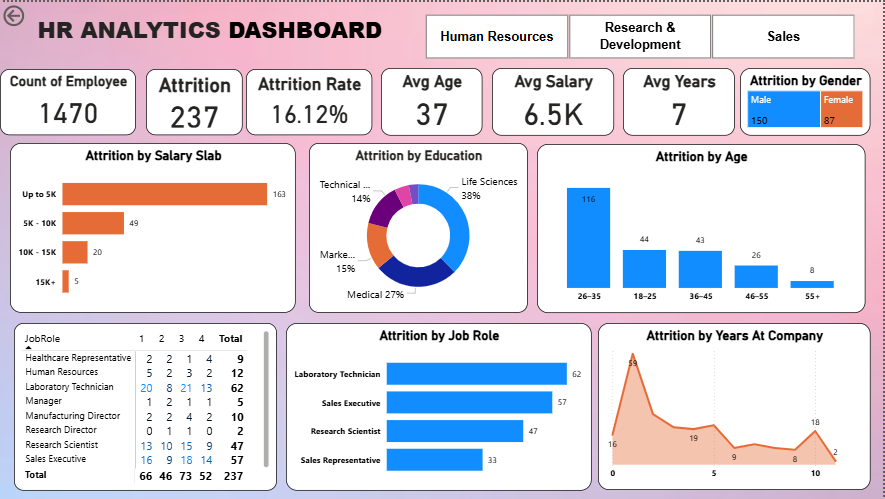

What the dashboard file says about the page in this screenshot:
{"tool":"powerbi","page":{"name":"Page 1","canvas":[1280,720],"ordinal":0},"visuals":[{"type":"card","title":"Count of Employee","fields":{"Values":["CountNonNull(WA_Fn-UseC_-HR-Employee-Attrition.EmployeeCount)"]},"box":[0,96.5,197.3,96.5],"z":0},{"type":"card","title":"Attrition","fields":{"Values":["CountNonNull(WA_Fn-UseC_-HR-Employee-Attrition.EmployeeNumber)"]},"box":[211.7,96.5,139.7,96.5],"z":1000},{"type":"card","title":"Attrition Rate","fields":{"Values":["HR_Analytics.Attrition Rate"]},"box":[357.1,96.5,182.9,96.5],"z":2000},{"type":"card","title":"Avg Age","fields":{"Values":["Avg(HR_Analytics.Age)"]},"box":[552.2,96,147.1,97.5],"z":3000},{"type":"card","title":"Avg Salary","fields":{"Values":["Avg(HR_Analytics.MonthlyIncome)"]},"box":[712.8,96,177.1,97.5],"z":4000},{"type":"card","title":"Avg Years","fields":{"Values":["Avg(HR_Analytics.YearsAtCompany)"]},"box":[903.4,96,162.1,97.5],"z":5000},{"type":"columnChart","title":"Attrition by Age","fields":{"Category":["HR_Analytics.Age Group"],"Y":["Sum(HR_Analytics.AttritionCount)"]},"box":[778.8,205.6,475.7,244.6],"z":6000},{"type":"donutChart","title":"Attrition by Education","fields":{"Category":["HR_Analytics.EducationField"],"Y":["Sum(HR_Analytics.AttritionCount)"]},"box":[447.2,204.1,316.6,246.1],"z":7000},{"type":"pivotTable","fields":{"Rows":["HR_Analytics.JobRole"],"Columns":["HR_Analytics.JobSatisfaction"],"Values":["Sum(HR_Analytics.AttritionCount)"]},"box":[21,465.2,381.1,243.1],"z":8000},{"type":"actionButton","box":[0,0,100,40],"z":9000},{"type":"barChart","title":"Attrition by Salary Slab","fields":{"Category":["HR_Analytics.Salary Slab"],"Y":["Sum(HR_Analytics.AttritionCount)"]},"box":[15,204.1,414.2,246.1],"z":10000},{"type":"barChart","title":"Attrition by Job Role","fields":{"Category":["HR_Analytics.JobRole"],"Y":["Sum(HR_Analytics.AttritionCount)"]},"box":[414.2,465.2,442.7,243.1],"z":11000},{"type":"areaChart","title":"Attrition by Years At Company","fields":{"Category":["HR_Analytics.YearsAtCompany"],"Y":["Sum(HR_Analytics.AttritionCount)"]},"box":[867.3,465.2,394.7,241.6],"z":12000},{"type":"treemap","title":"Attrition by Gender","fields":{"Group":["HR_Analytics.Gender"],"Values":["Sum(HR_Analytics.AttritionCount)"]},"box":[1072.9,96,189.1,97.5],"z":13000},{"type":"slicer","fields":{"Values":["HR_Analytics.Department"]},"box":[591.2,12,670.8,76.5],"z":14000},{"type":"textbox","box":[49.3,11.6,542,58],"z":15000}]}

Visuals, with their boxes in screenshot pixels (x1, y1, x2, y2), scaled from the page's 1280x720 canvas onto the 885x499 screenshot:
"Count of Employee" card: locate(0, 67, 136, 134)
"Attrition" card: locate(146, 67, 243, 134)
"Attrition Rate" card: locate(247, 67, 373, 134)
"Avg Age" card: locate(382, 67, 484, 134)
"Avg Salary" card: locate(493, 67, 615, 134)
"Avg Years" card: locate(625, 67, 737, 134)
"Attrition by Age" columnChart: locate(538, 142, 867, 312)
"Attrition by Education" donutChart: locate(309, 141, 528, 312)
pivotTable - HR_Analytics.JobRole x HR_Analytics.JobSatisfaction: locate(15, 322, 278, 491)
actionButton: locate(0, 0, 69, 28)
"Attrition by Salary Slab" barChart: locate(10, 141, 297, 312)
"Attrition by Job Role" barChart: locate(286, 322, 592, 491)
"Attrition by Years At Company" areaChart: locate(600, 322, 873, 490)
"Attrition by Gender" treemap: locate(742, 67, 873, 134)
slicer - HR_Analytics.Department: locate(409, 8, 873, 61)
textbox: locate(34, 8, 409, 48)
